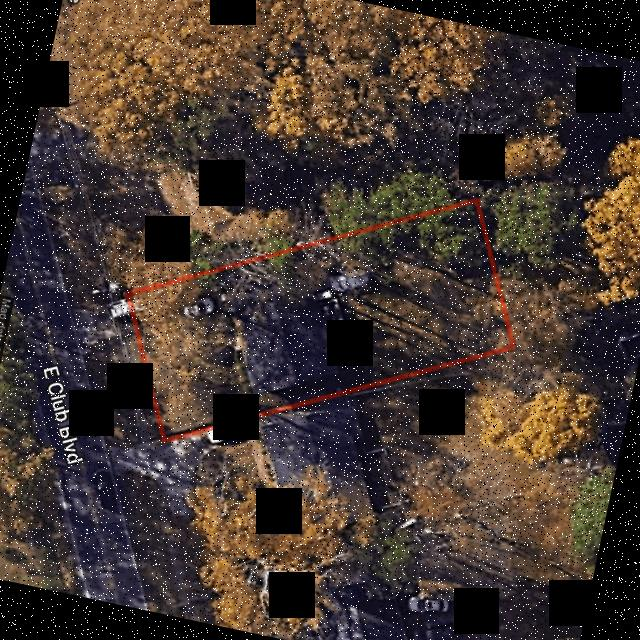Extra Lawn: (113, 293, 163, 442)
House: (237, 295, 352, 391)
